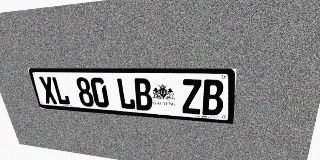0: (89, 77, 110, 108)
8: (75, 77, 95, 107)
B: (202, 79, 224, 116), (133, 78, 153, 111)
L: (116, 78, 136, 110), (51, 77, 71, 105)
X: (38, 76, 58, 104)
Z: (181, 79, 202, 115)
